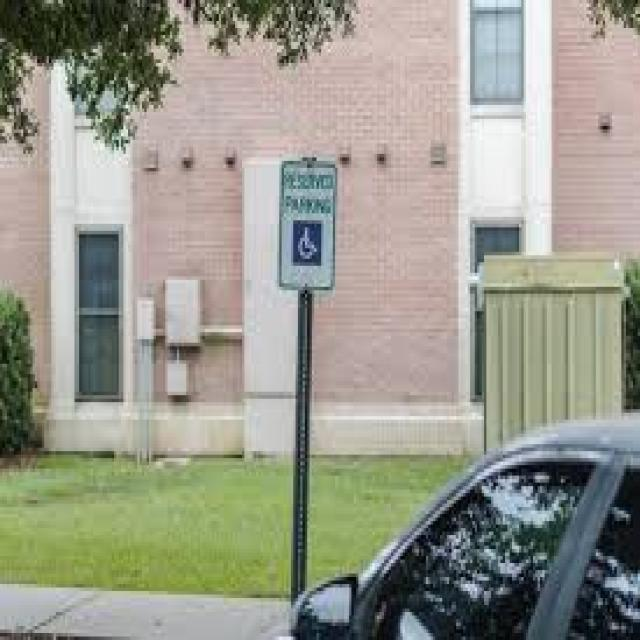symbol_of_access: (294, 222, 318, 262)
